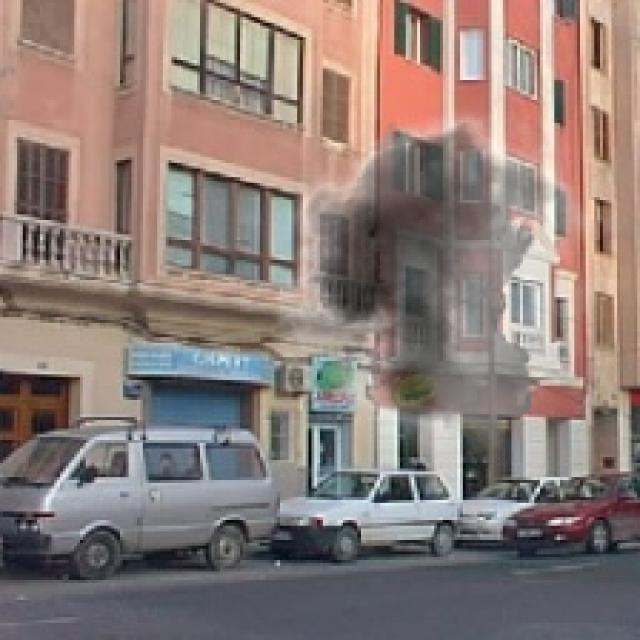smoke: (255, 92, 634, 454)
